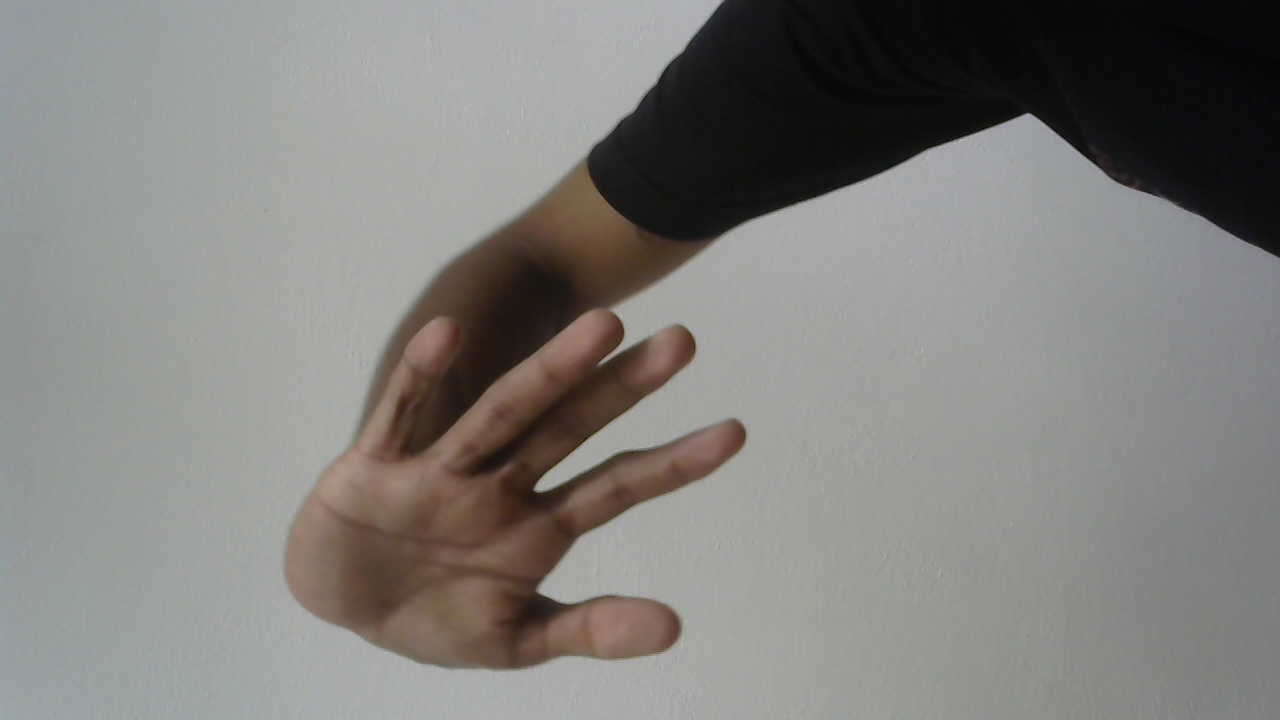hello: (274, 304, 749, 674)
